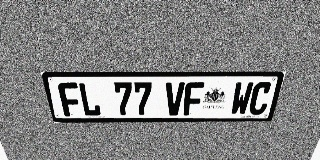7: (113, 82, 134, 116), (133, 82, 152, 116)
C: (247, 82, 273, 115)
F: (57, 83, 83, 116), (183, 82, 204, 115)
L: (77, 82, 101, 116)
V: (165, 82, 185, 116)
W: (229, 82, 254, 115)
